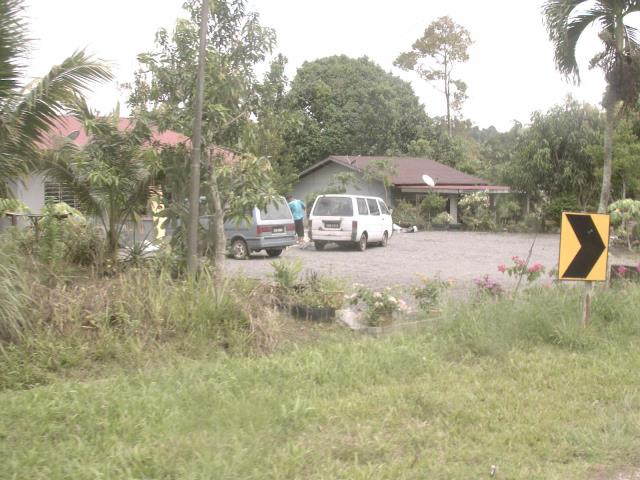traffic_sign: (551, 203, 617, 291)
